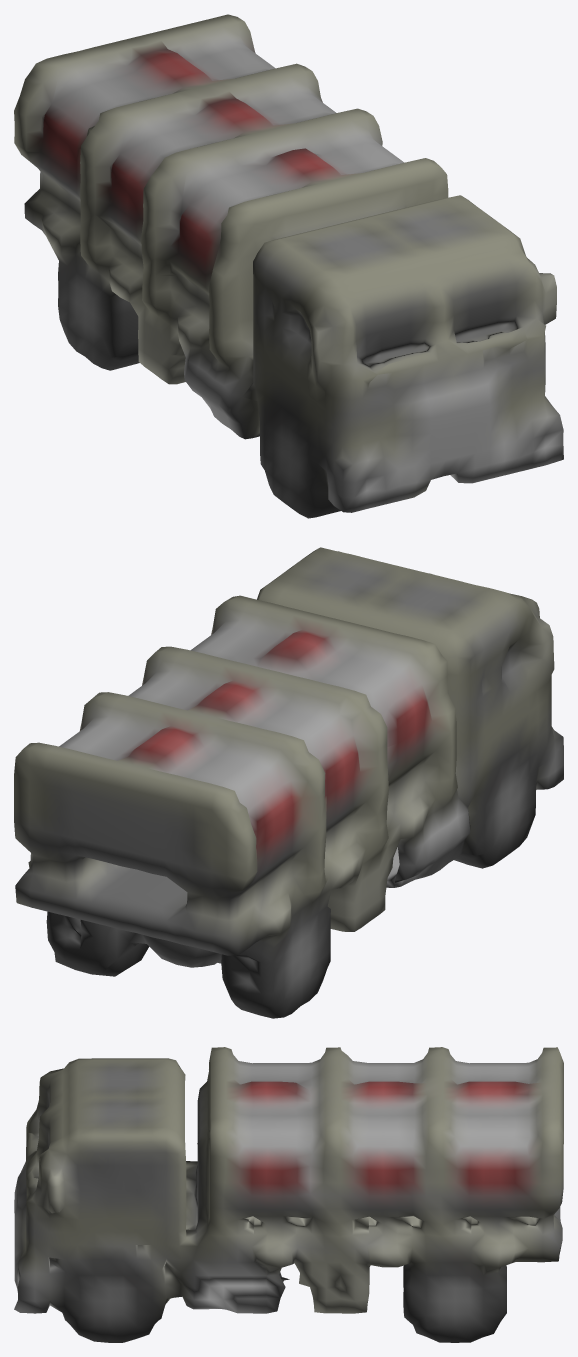
Rendered from demolition_truck.glb.
3 views of the same model, one above another, from view 1: azimuth 30°, elevation 25°; view 2: azimuth 150°, elevation 25°; view 3: azimuth 270°, elevation 25° (orthographic). The views are drawn at different scales.
Parts seen in each view (by area): view 1: demolition_truck; view 2: demolition_truck; view 3: demolition_truck.
Part boxes in pixels (x1,y1,x2,y2): demolition_truck: (14,14,563,518); demolition_truck: (14,547,563,1018); demolition_truck: (14,1047,563,1342).
Bounding box in the file's own units: 1.73 × 1.73 × 4.
